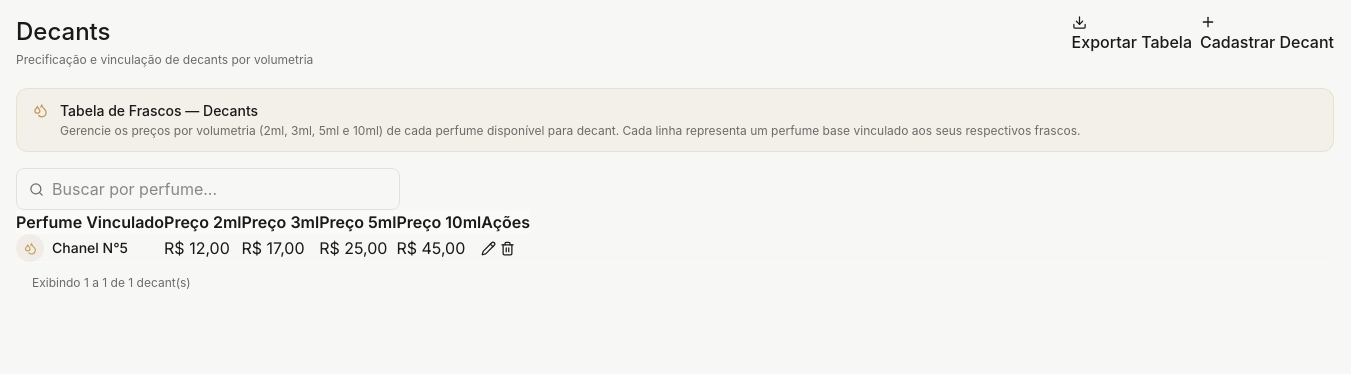
Test: Catalog workflows › filters decants and reports an empty result
Expected: the cell "Chanel N°5" is shown, [16,234,164,262]
In the search field with placeholder "Buscar por perfume...": (176, 189) [52,177,300,201], type "inexistente"
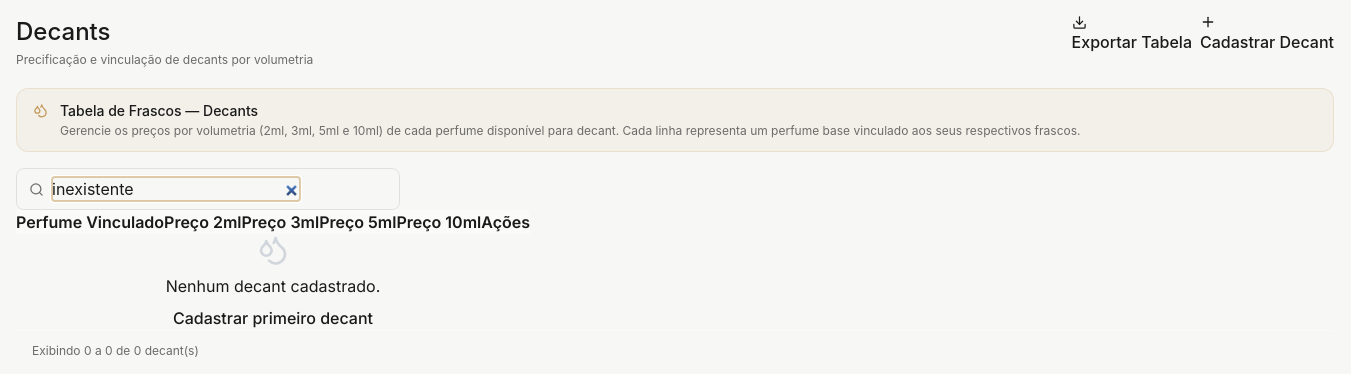
Result: the text "Chanel N°5" is gone
Result: the text "Nenhum decant cadastrado." is shown at [166,274,380,298]
